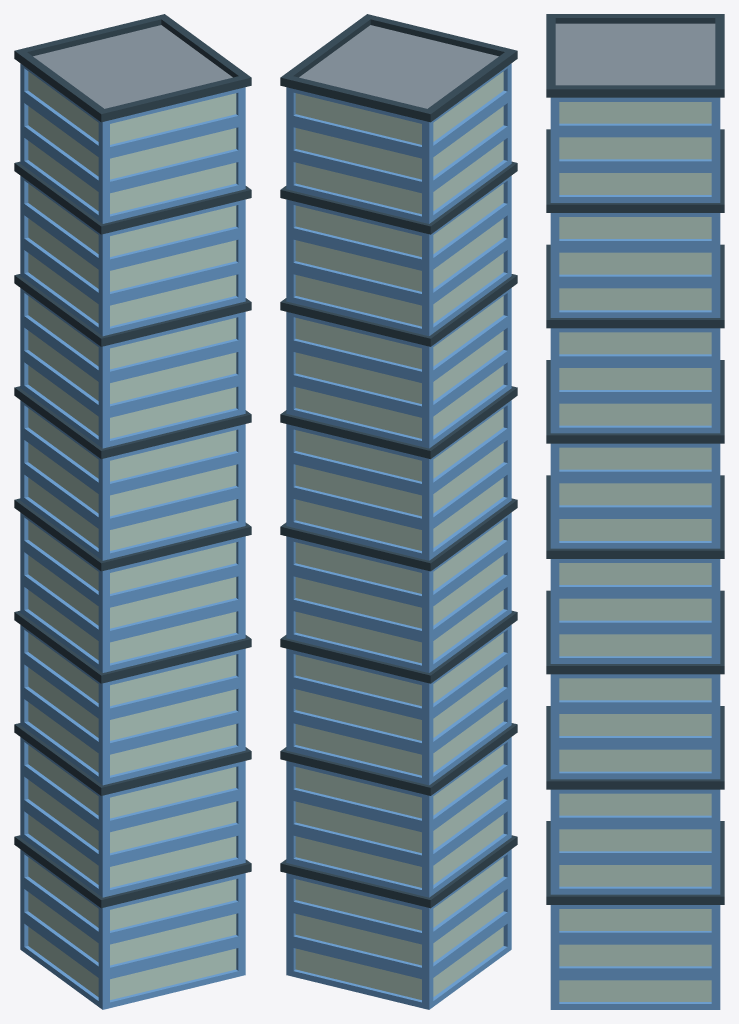
File: skyscr 2.fbx
3 views of the same model, side by side, from view 1: azimuth 30°, elevation 25°; view 2: azimuth 150°, elevation 25°; view 3: azimuth 270°, elevation 25° (orthographic). The views are drawn at different scales.
Visible parts, largest first — view 1: Cube.012; view 2: Cube.012; view 3: Cube.012.
Part boxes in pixels (x1,y1,x2,y2): Cube.012: [14, 14, 251, 1009]; Cube.012: [280, 14, 517, 1009]; Cube.012: [546, 14, 724, 1009].
Bounding box in the file's own units: 4.2 × 24 × 4.2.
